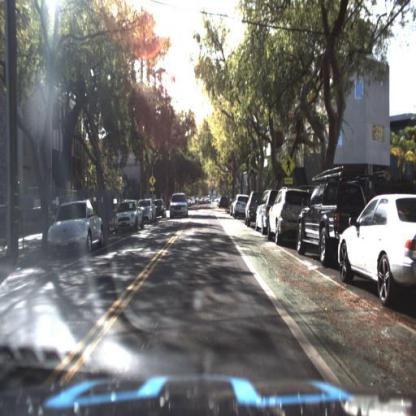car: (338, 194, 416, 312), (295, 165, 382, 266), (46, 194, 104, 255), (267, 189, 309, 249), (113, 199, 144, 234), (256, 187, 278, 236), (247, 189, 263, 230), (168, 194, 193, 220), (168, 193, 189, 220), (140, 196, 158, 227), (232, 192, 248, 226)
